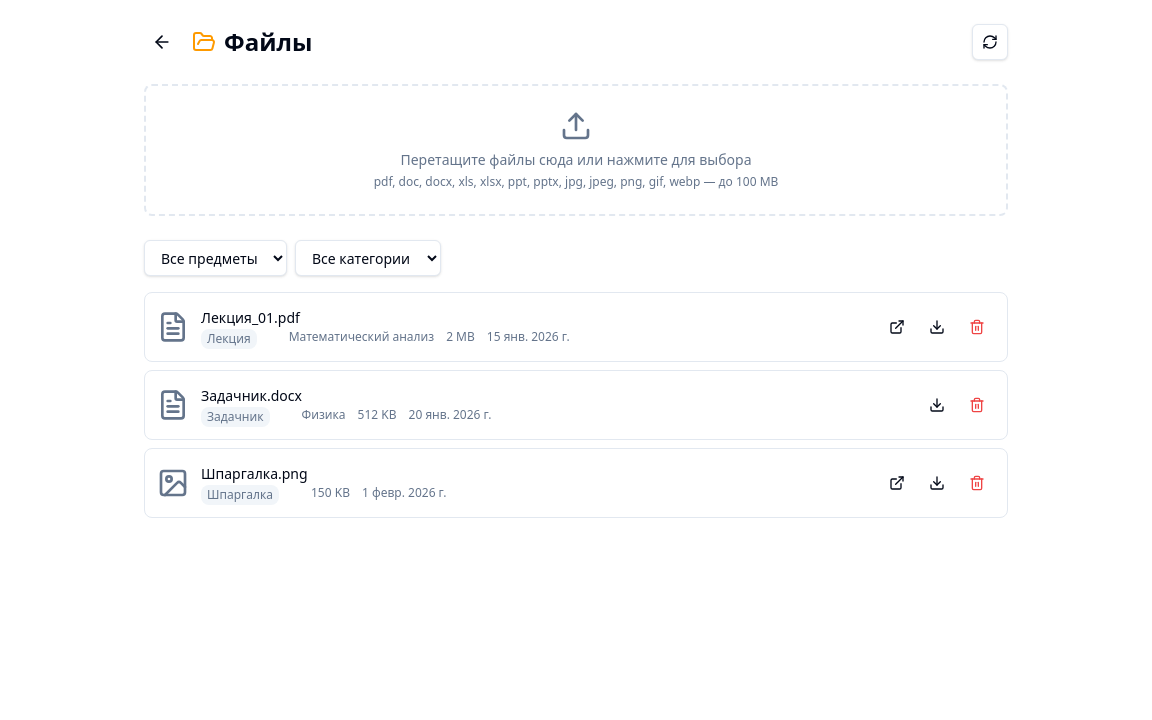
Test: FilesPage › shows delete confirmation modal
This screenshot has width=1152, height=720.
Expected: the text "Лекция_01.pdf" is shown, [201,308,300,327]
Step 1. Click the button named "Удалить" → coordinates (977, 327), box [959,309,995,345]
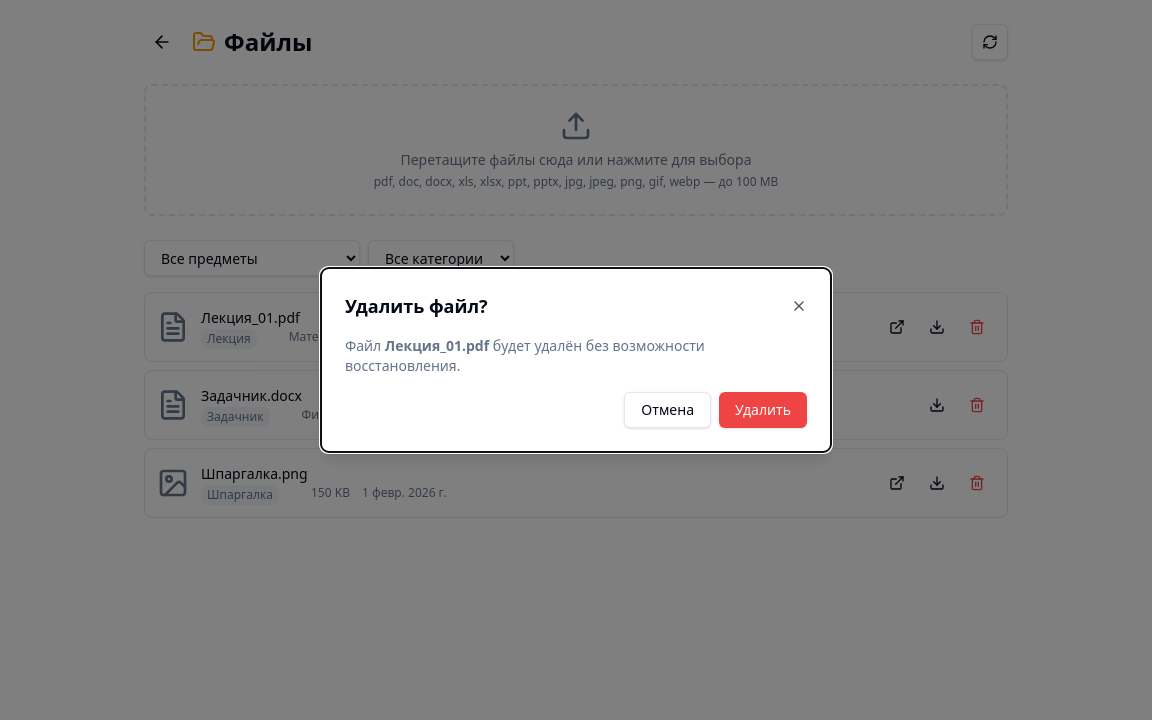
Result: the heading "Удалить файл?" is shown at [345,292,488,320]
Result: the text "будет удалён" is shown at [345,336,705,375]
